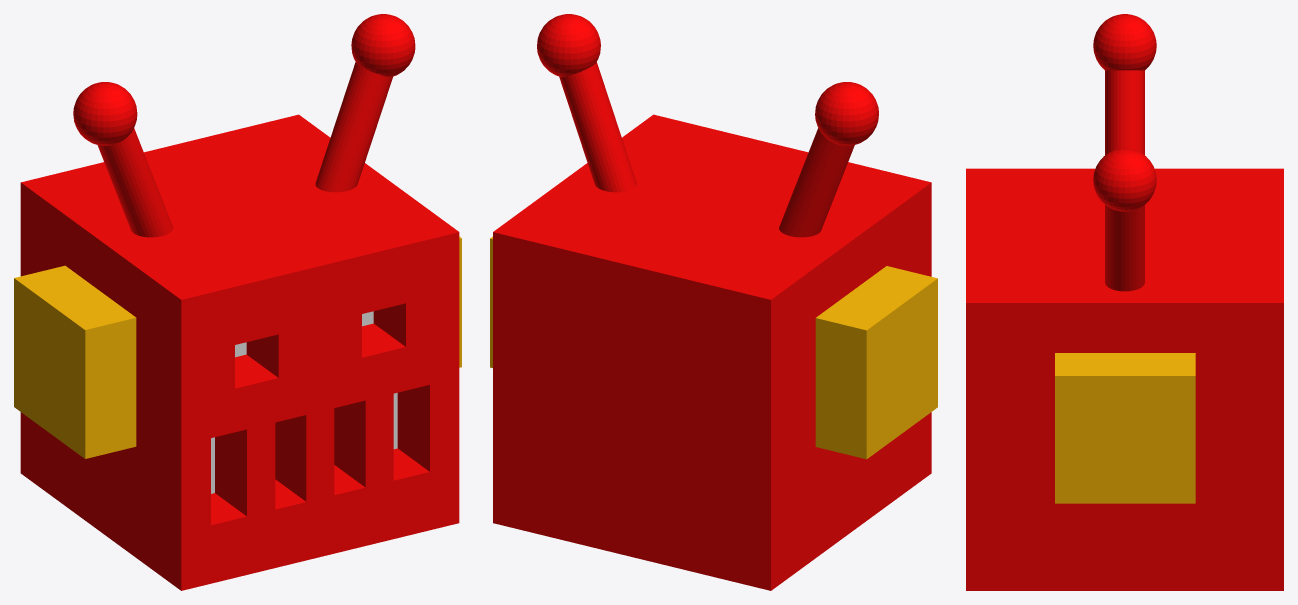
The model's file is robohead_red.glb.
3 views of the same model, side by side, from view 1: azimuth 30°, elevation 25°; view 2: azimuth 150°, elevation 25°; view 3: azimuth 270°, elevation 25° (orthographic).
Visible parts, largest first — view 1: head; view 2: head; view 3: head.
Part boxes in pixels (<box>): head: <box>14,14,461,590</box>; head: <box>490,14,937,590</box>; head: <box>966,14,1283,590</box>.
Bounding box in the file's own units: 2.71 × 3.07 × 2.
